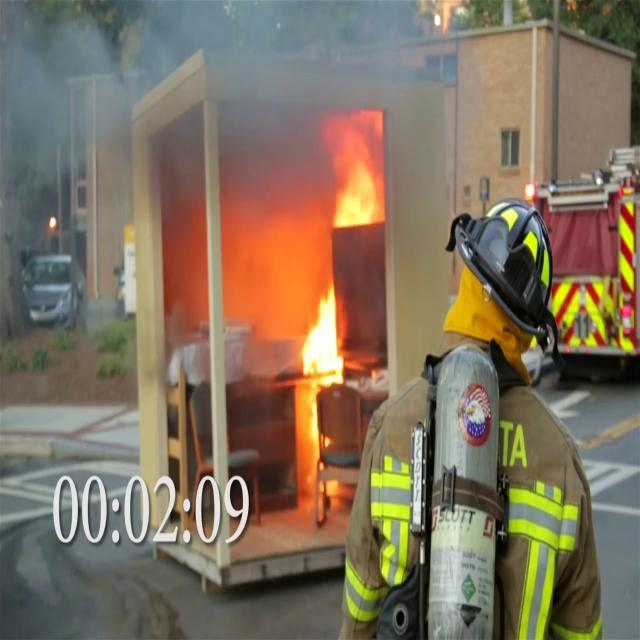Fire: (314, 107, 392, 233), (294, 273, 352, 388)
Smoke: (0, 1, 463, 185)
